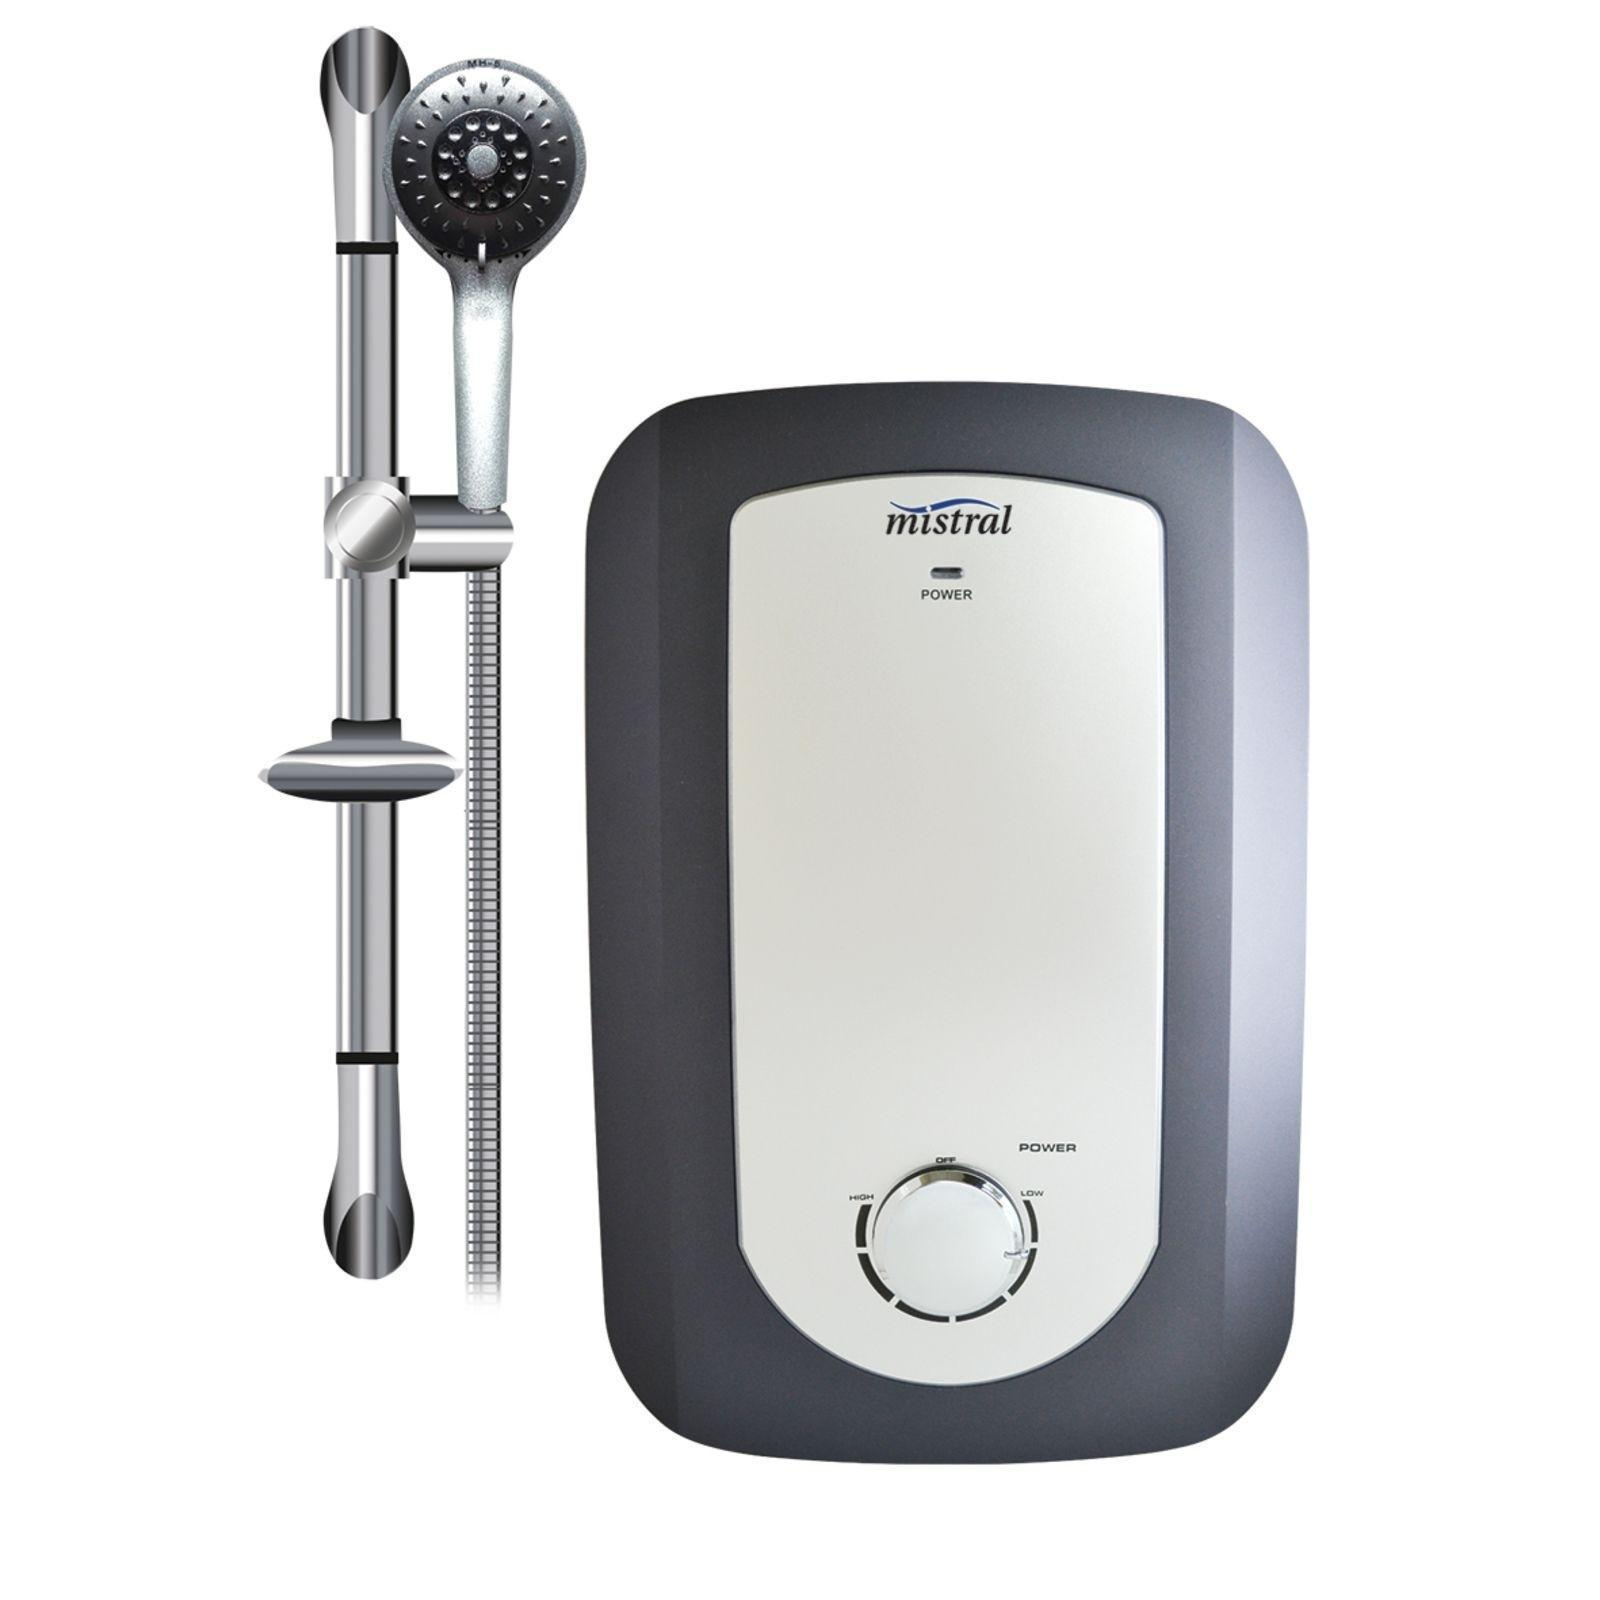Ducha: (215, 0, 1344, 1461)
